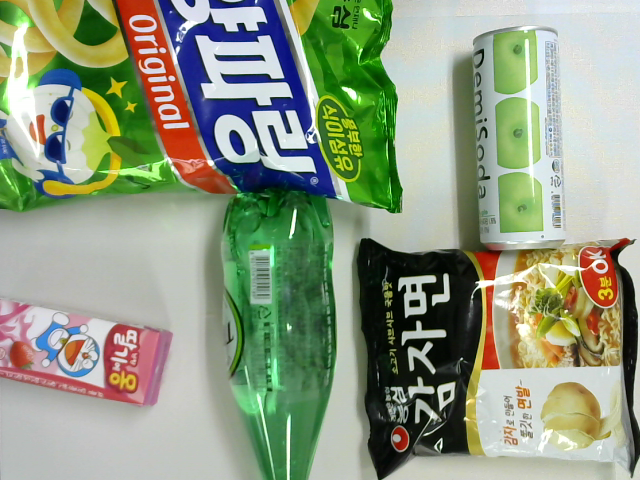Demisoda_Apple_Can_250ml: (472, 25, 564, 250)
Oninon_Ring: (1, 1, 403, 215)
Potato: (357, 237, 638, 480)
Strawberry_E_Mong: (1, 300, 172, 407)
Treviraim_500ml: (222, 189, 334, 480)
